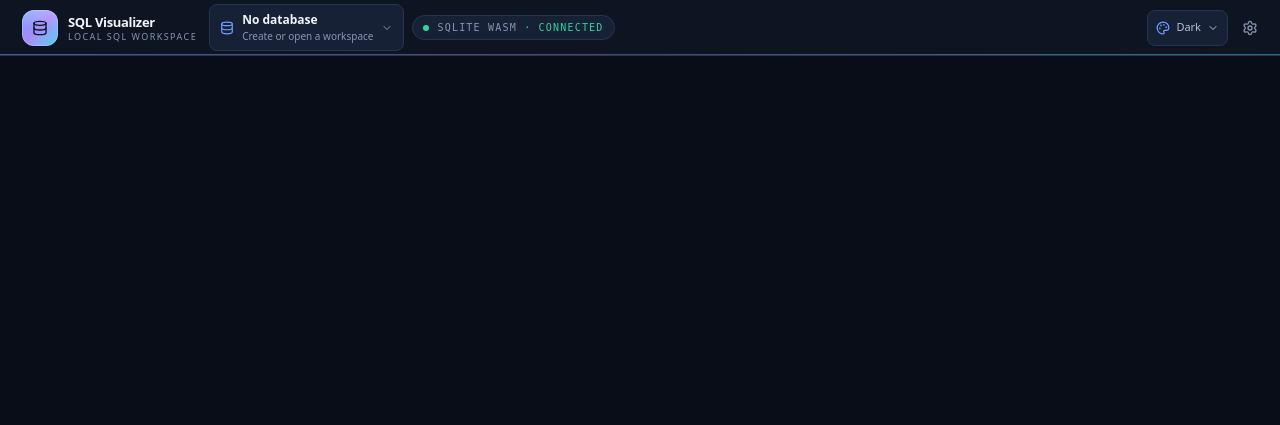
Navbar › opens the theme menu and applies a selection immediately
Click the button with aria-label "Theme: Dark": (1188, 28) [1147,10,1228,46]
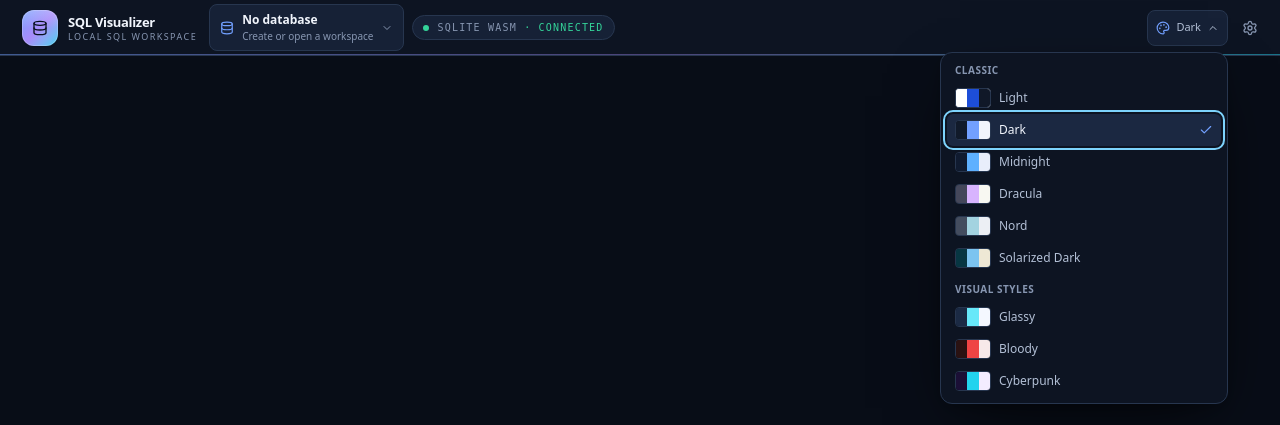
Now the menu named "Themes" is shown, box [940,52,1228,404]
Now the number of menu items is 9
Click the menu item "Nord": (973, 226) [947,210,1221,242]
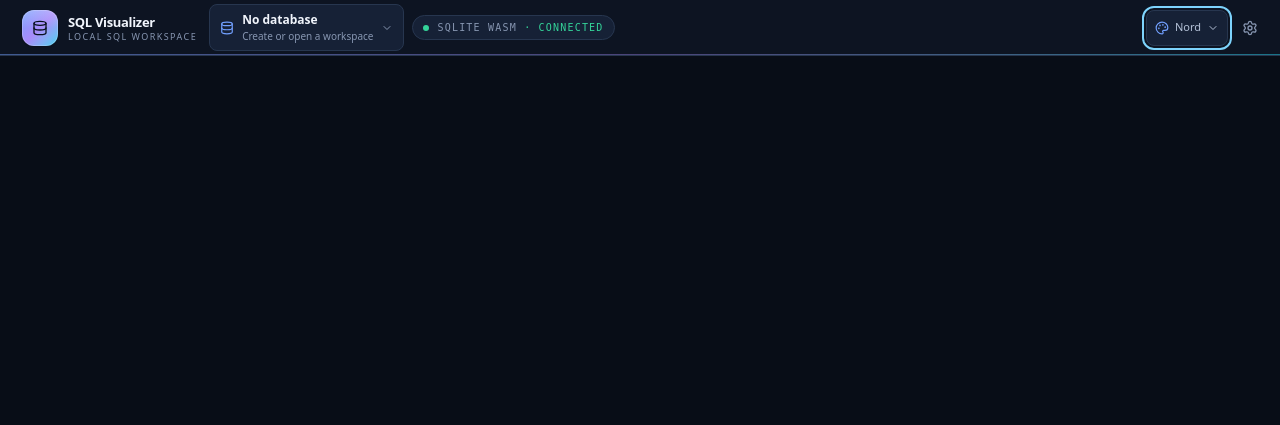
Now the button named "Theme: Dark" is collapsed, box [1146,10,1228,46]
